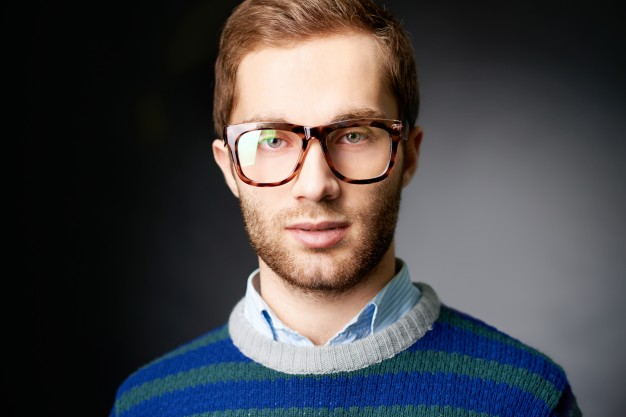glasses: (213, 109, 412, 200)
